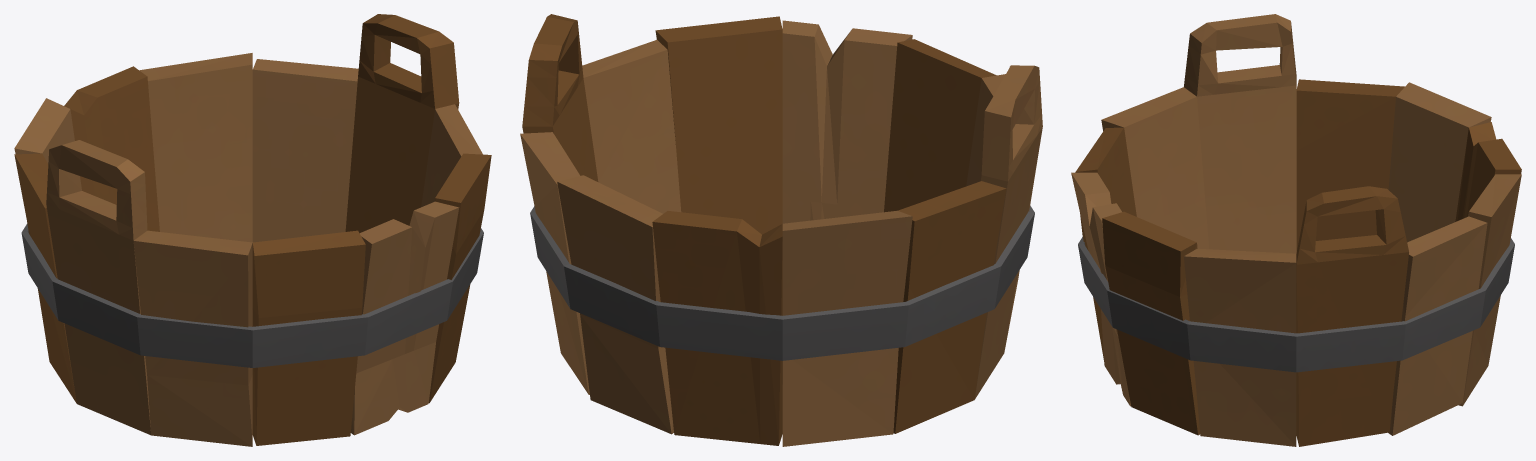
The model's file is Taz_derev.fbx.
3 renders of one model, left to right at view 1: azimuth 30°, elevation 25°; view 2: azimuth 150°, elevation 25°; view 3: azimuth 270°, elevation 25°, orthographic. The views are drawn at different scales.
Parts seen in each view (by area): view 1: Basin; view 2: Basin; view 3: Basin.
Part boxes in pixels (x1=…): Basin: x1=14, y1=14, x2=491, y2=446; Basin: x1=520, y1=14, x2=1042, y2=446; Basin: x1=1071, y1=14, x2=1521, y2=446.
Size of the model in its own units: 0.7626 by 0.4826 by 0.7626.
Materials: 1 (1 with a texture image).
